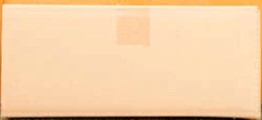stock: (2, 4, 262, 119)
